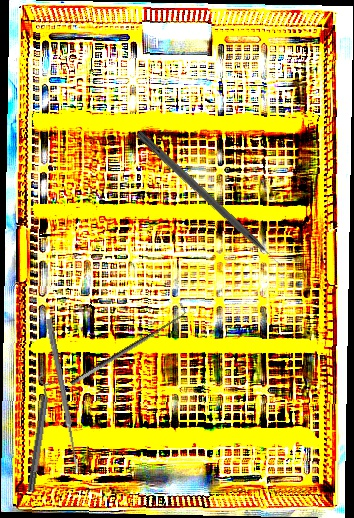Fixation Ring: (20, 373, 58, 494)
Hook Surgical: (134, 129, 288, 274), (64, 301, 191, 388)
Surgical Spoon: (44, 318, 82, 473)
